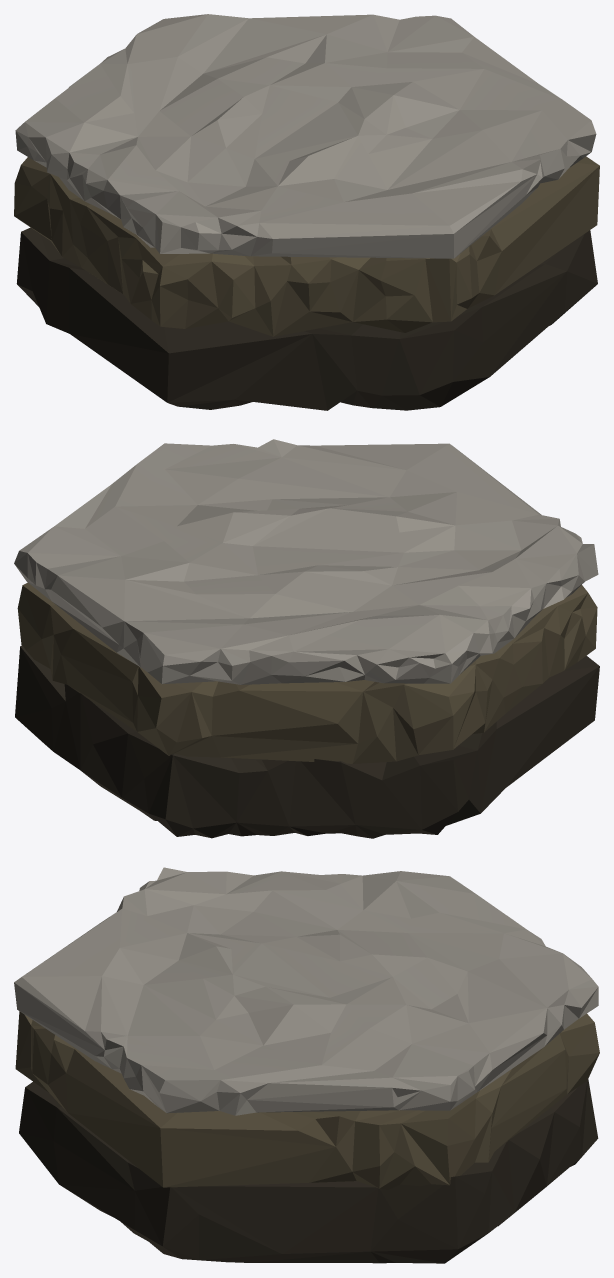
Rendered from stone.fbx.
The picture shows the model from 3 angles, top to bottom: view 1: azimuth 30°, elevation 25°; view 2: azimuth 150°, elevation 25°; view 3: azimuth 270°, elevation 25°; orthographic projection.
Parts seen in each view (by area): view 1: stone; view 2: stone; view 3: stone.
Part boxes in pixels (bbox=[...]): stone: bbox=[14, 14, 599, 410]; stone: bbox=[14, 439, 599, 838]; stone: bbox=[14, 867, 599, 1263].
Bounding box in the file's own units: 984 × 439 × 1125.
